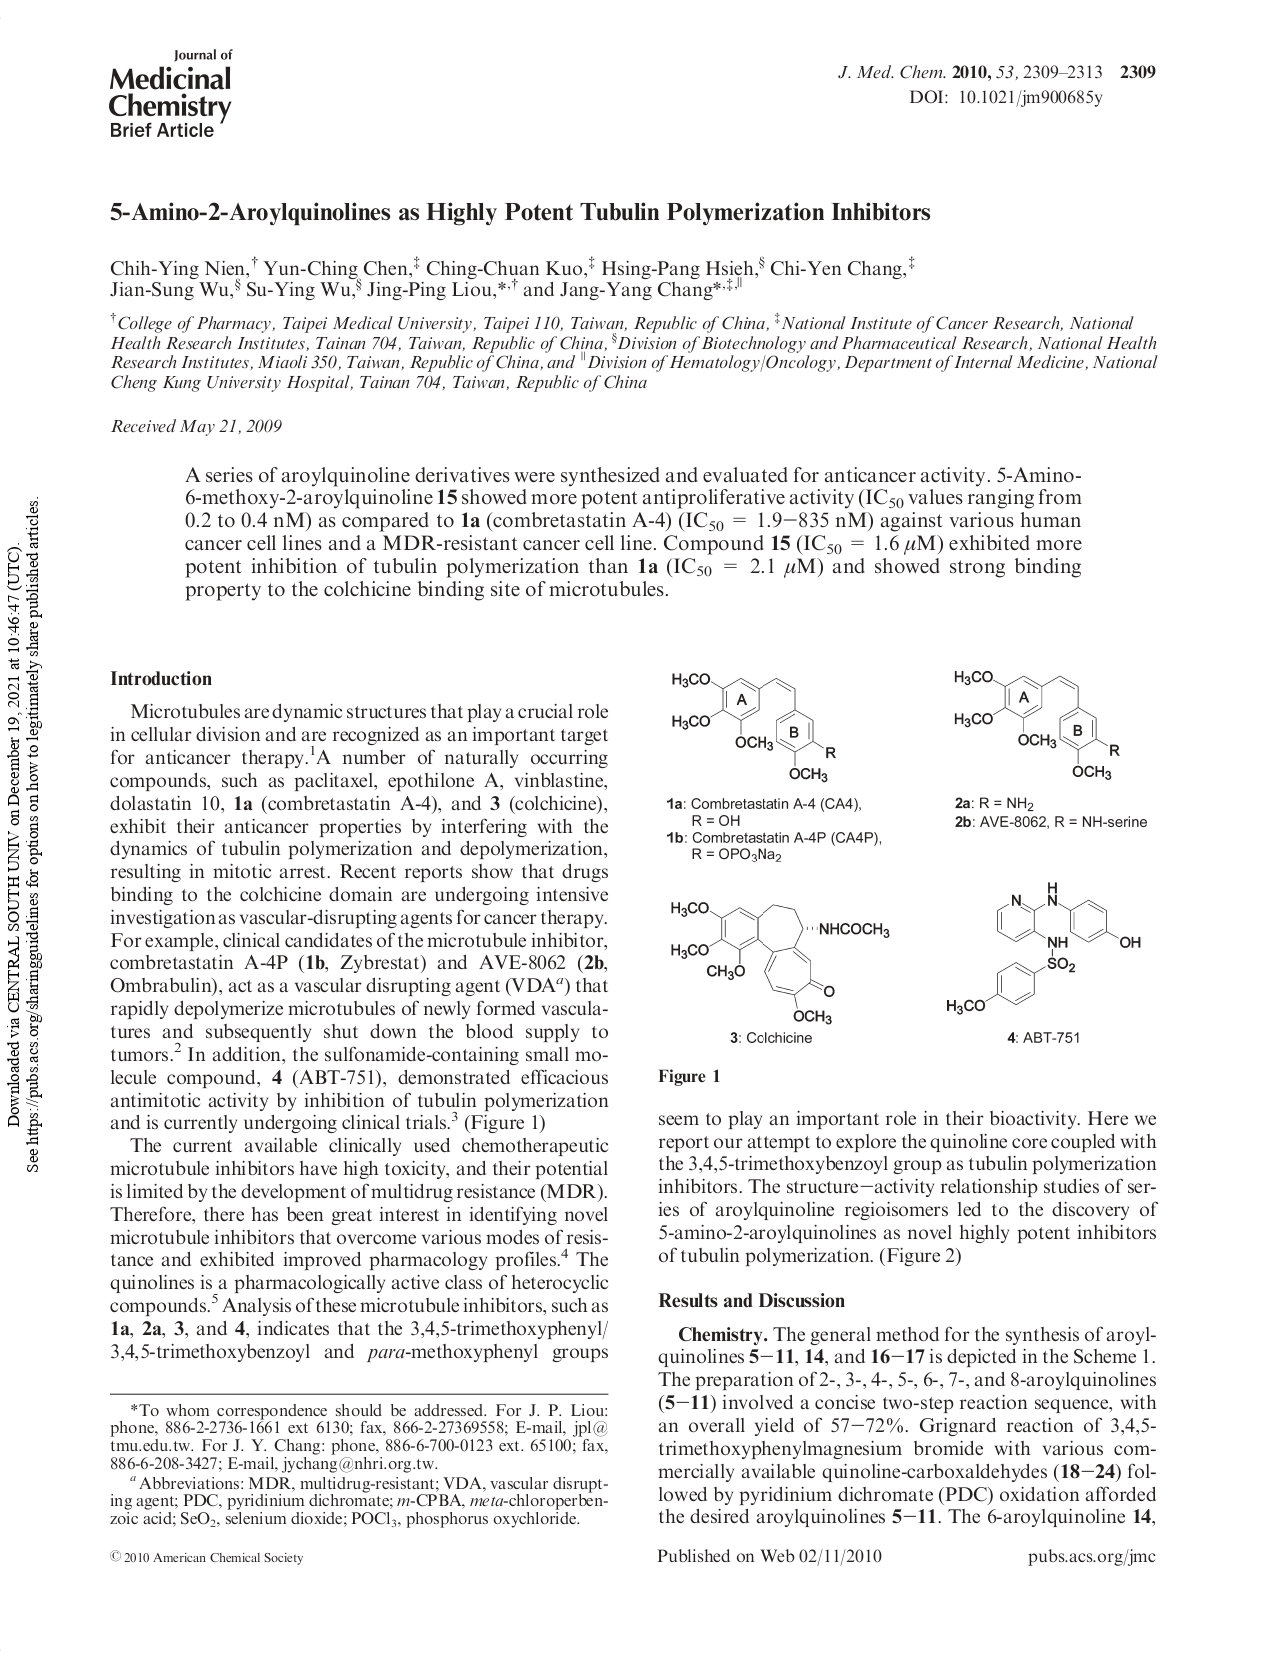exist_molecular: (668, 896, 891, 1025), (943, 879, 1141, 1017), (668, 669, 839, 783), (952, 668, 1121, 783)
